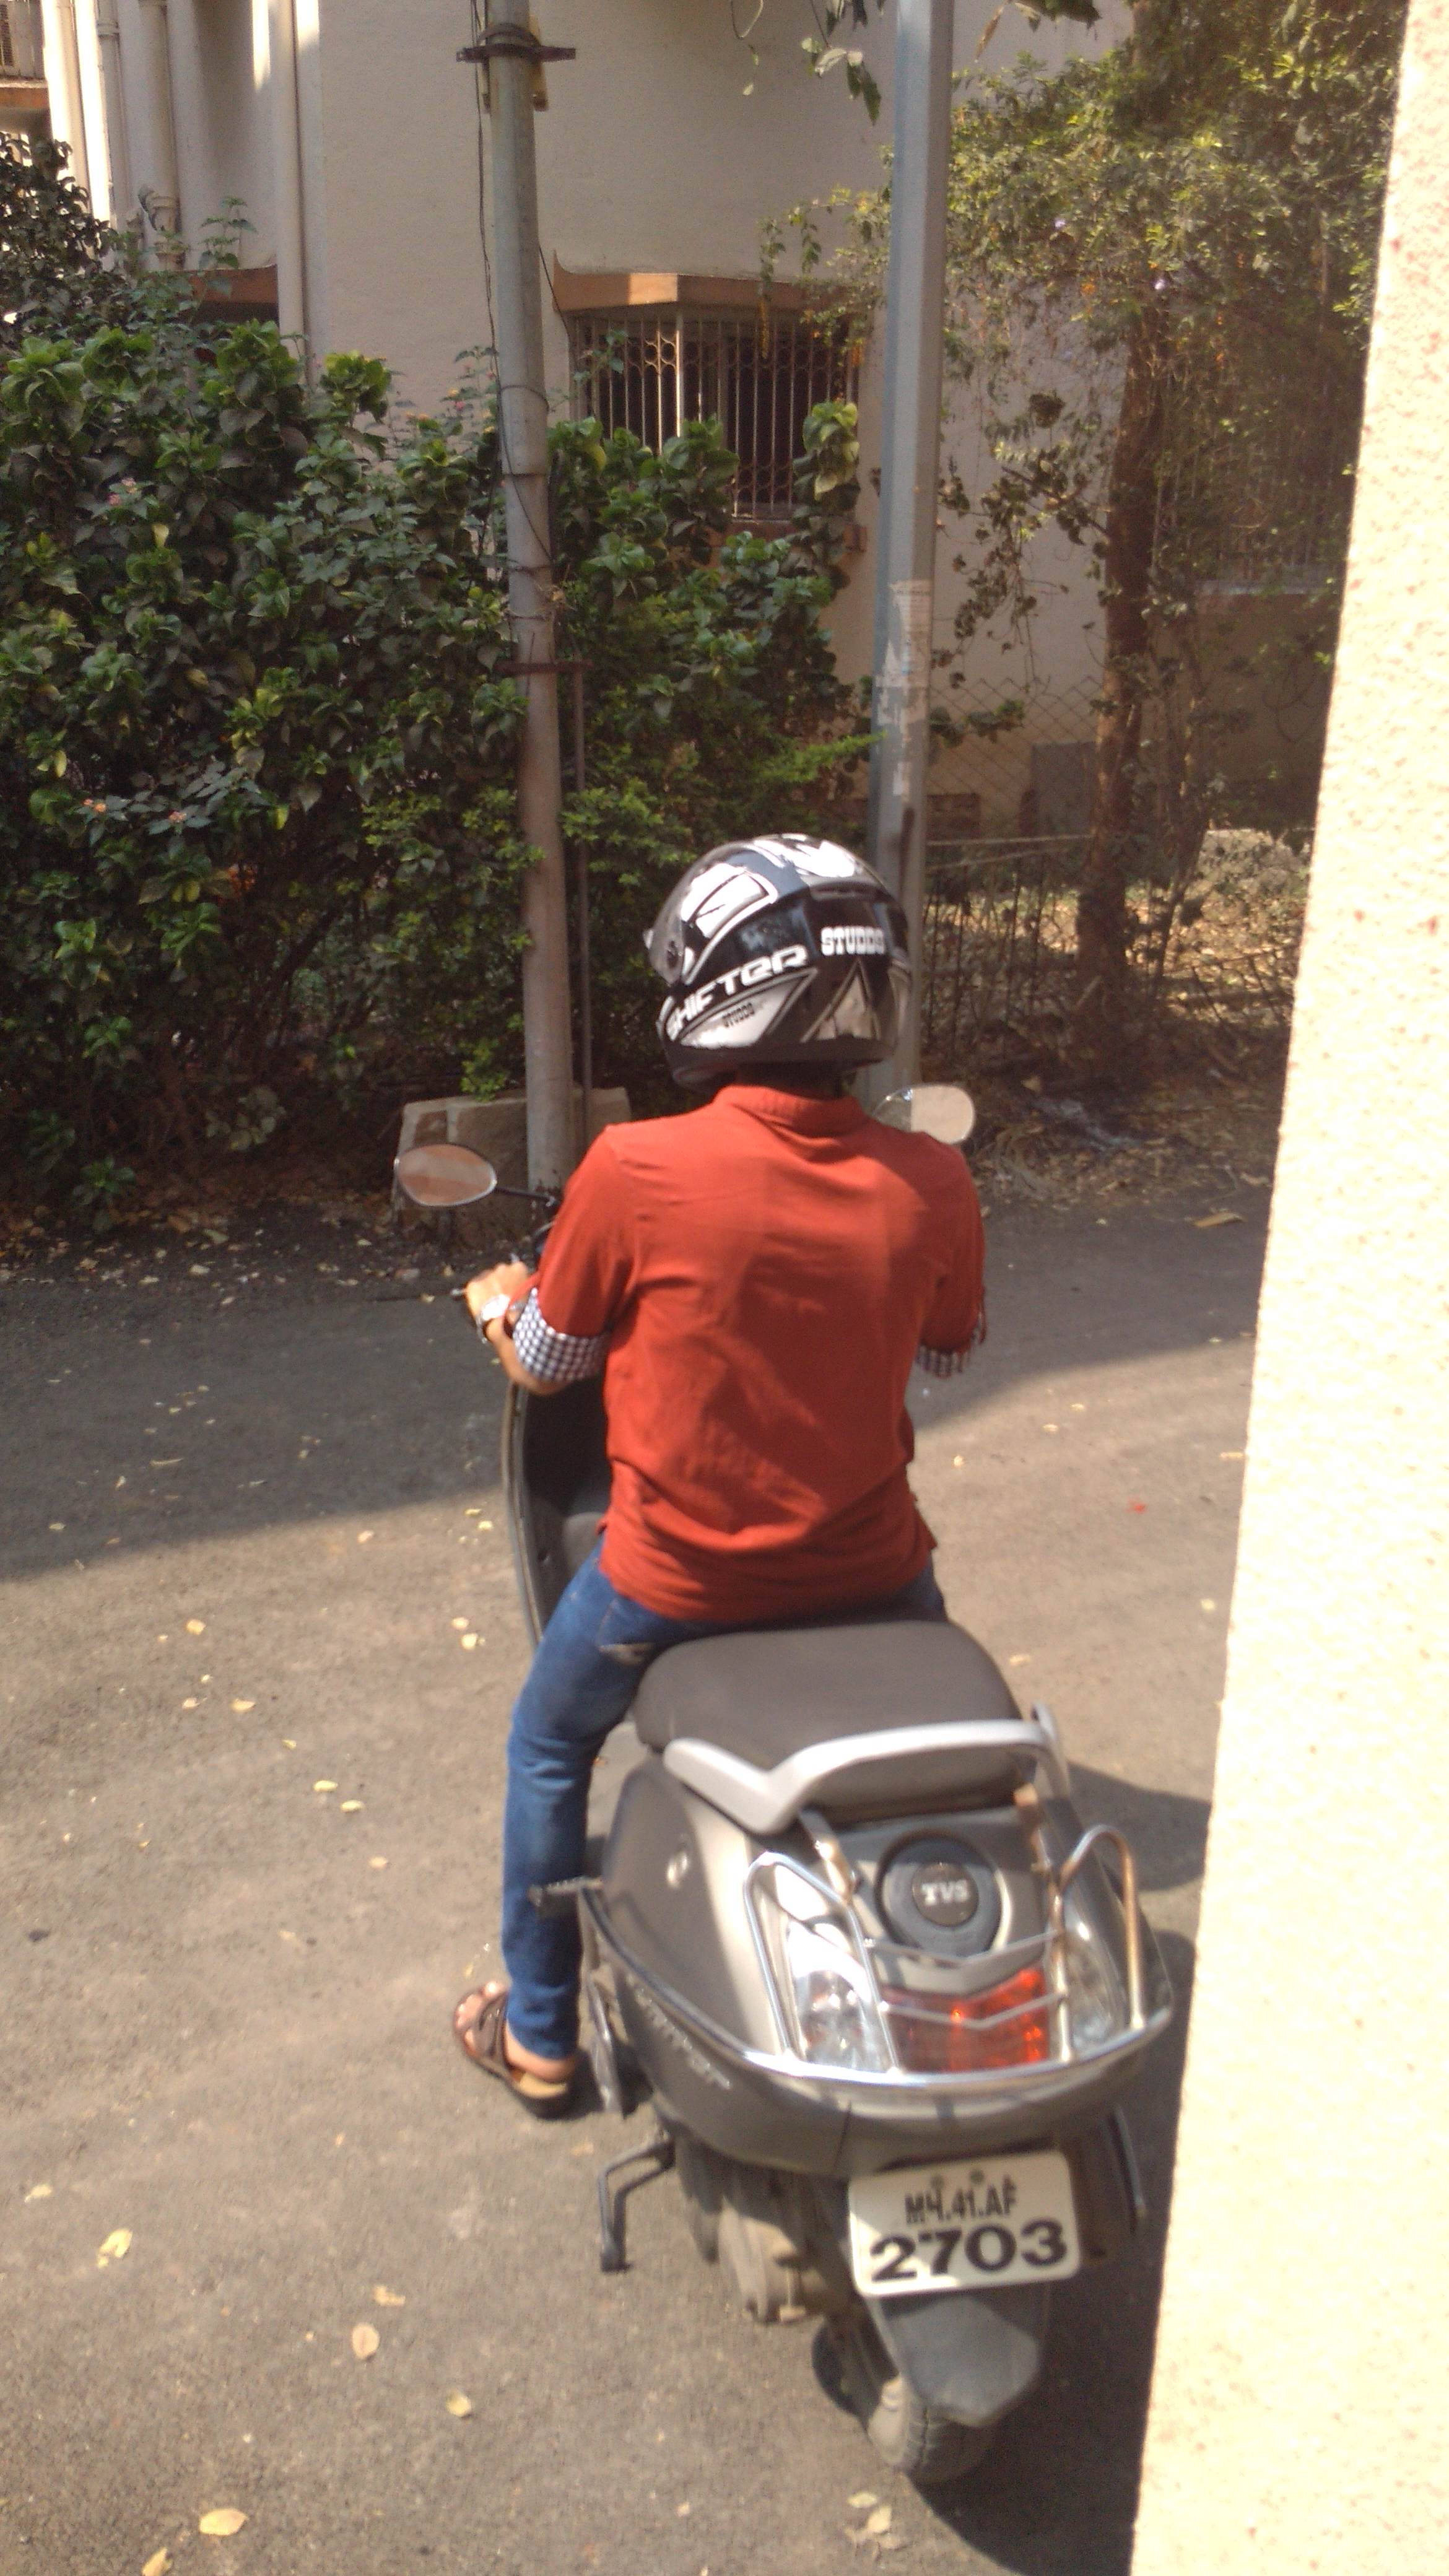helmet: (340, 771, 1281, 2443)
